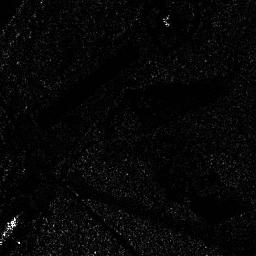ship: (1, 215, 19, 245)
